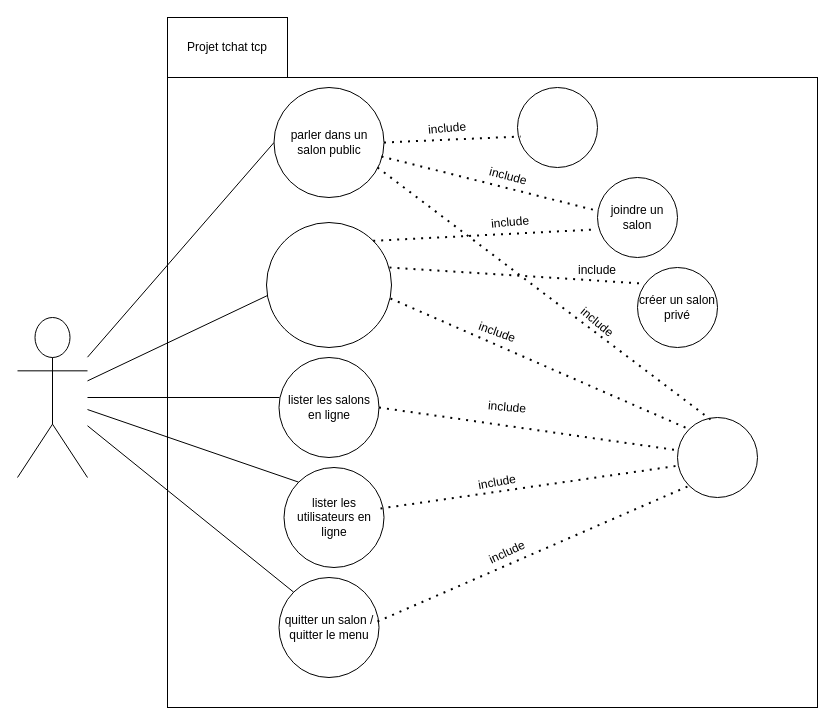
Some shapes in this 835 by 725 pixel diagram are drawn without their labels. Here are the shapes that lost their labels. From the top down, the centre of each, then its label:
At (557,127): "créer un salon public".
At (329,285): "parler dans un salon privé avec une seule personne".
At (52,397): "Actor".
At (717,457): "Se connecter".
